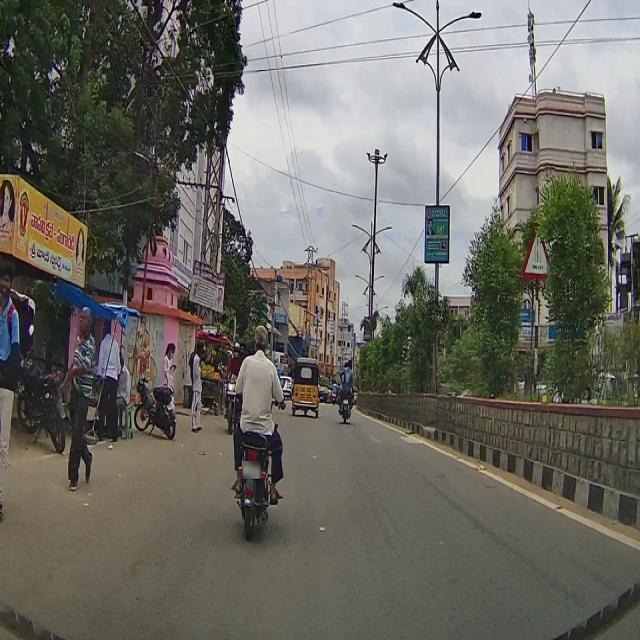gap-in-median: (527, 226, 549, 274)
